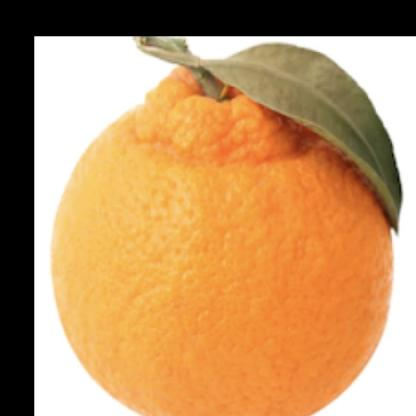fresh: (52, 46, 394, 416)
